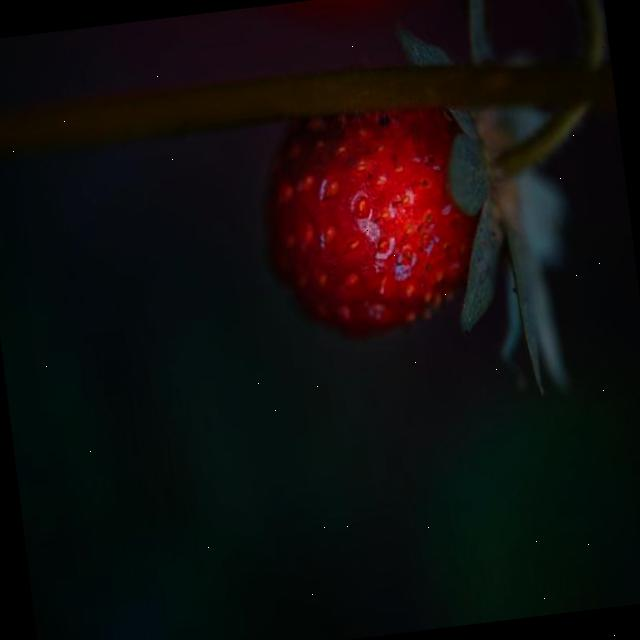strawberry: (254, 93, 496, 343)
